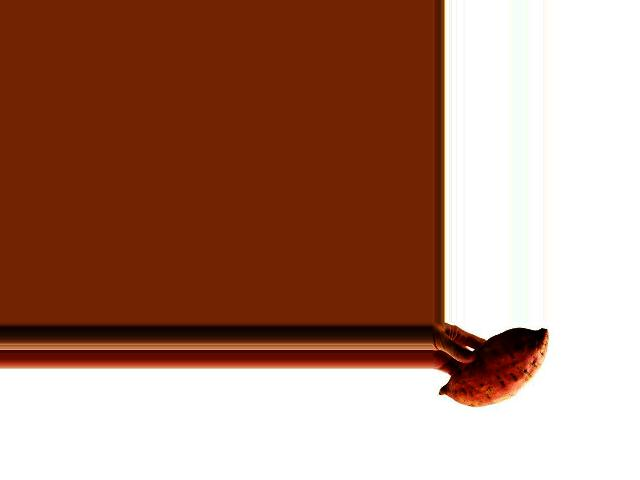sweet_potato: (443, 324, 551, 413)
